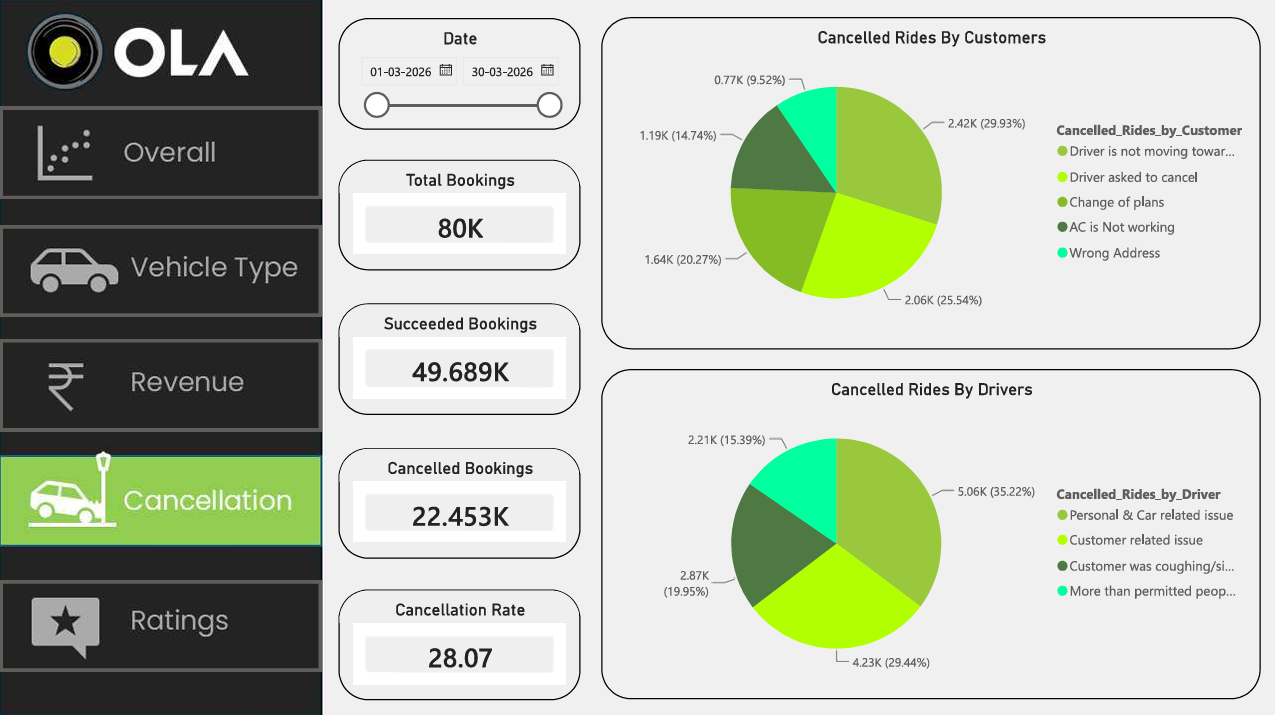

Layout of this report page (visuals, bound fields, positions):
{"tool":"powerbi","page":{"name":"Cancellation","canvas":[1280,720],"ordinal":3},"visuals":[{"type":"actionButton","box":[0,225.6,323.3,91.7],"z":0},{"type":"actionButton","box":[0,340.2,323.3,91.7],"z":1000},{"type":"actionButton","box":[0,107.4,323.3,91.7],"z":2000},{"type":"actionButton","box":[0,581.5,323.3,91.7],"z":3000},{"type":"pieChart","title":"Cancelled Rides By Customers","fields":{"Category":["Thane Ride Data.Cancelled_Rides_by_Customer"],"Y":["CountNonNull(Thane Ride Data.Cancelled_Rides_by_Customer)"]},"box":[604.3,17.1,661.4,332.9],"z":4000},{"type":"pieChart","title":"Cancelled Rides By Drivers","fields":{"Category":["Thane Ride Data.Cancelled_Rides_by_Driver"],"Y":["CountNonNull(Thane Ride Data.Cancelled_Rides_by_Driver)"]},"box":[604.3,370,661.4,331.4],"z":5000},{"type":"slicer","title":"Date","fields":{"Values":["Thane Ride Data.Date"]},"box":[340.3,17.8,242.9,112.5],"z":6000},{"type":"cardVisual","title":"Total Bookings","fields":{"Data":["CountNonNull(Thane Ride Data.Booking_ID)"]},"box":[340,160,242.9,111.4],"z":7000},{"type":"cardVisual","title":"Succeeded Bookings","fields":{"Data":["CountNonNull(Thane Ride Data.Booking_ID)"]},"box":[340,304.3,242.9,111.4],"z":8000},{"type":"cardVisual","title":"Cancelled Bookings","fields":{"Data":["CountNonNull(Thane Ride Data.Booking_ID)"]},"box":[340,448.6,242.9,111.4],"z":9000},{"type":"cardVisual","title":"Cancellation Rate","fields":{"Data":["Thane Ride Data.Canceled Precentage"]},"box":[340.2,590.8,243,110.9],"z":10000}]}

Visuals, with their boxes in screenshot pixels (x1, y1, x2, y2), scaled from the page's 1280x720 canvas onto the 1277x715 screenshot:
actionButton: 0, 224, 323, 315
actionButton: 0, 338, 323, 429
actionButton: 0, 107, 323, 198
actionButton: 0, 577, 323, 669
"Cancelled Rides By Customers" pieChart: 603, 17, 1263, 348
"Cancelled Rides By Drivers" pieChart: 603, 367, 1263, 697
"Date" slicer: 340, 18, 582, 129
"Total Bookings" cardVisual: 339, 159, 582, 270
"Succeeded Bookings" cardVisual: 339, 302, 582, 413
"Cancelled Bookings" cardVisual: 339, 445, 582, 556
"Cancellation Rate" cardVisual: 339, 587, 582, 697
